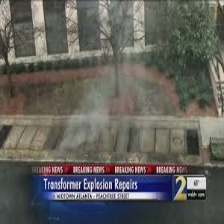smoke: (73, 102, 164, 159)
